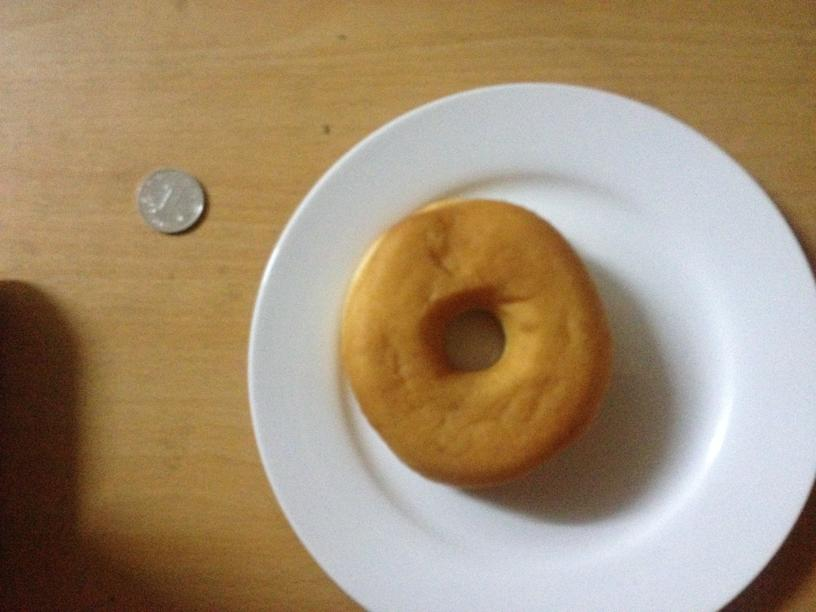coin: (134, 168, 209, 236)
doughnut: (334, 195, 606, 492)
